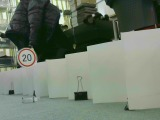speed_20: (16, 47, 37, 69)
